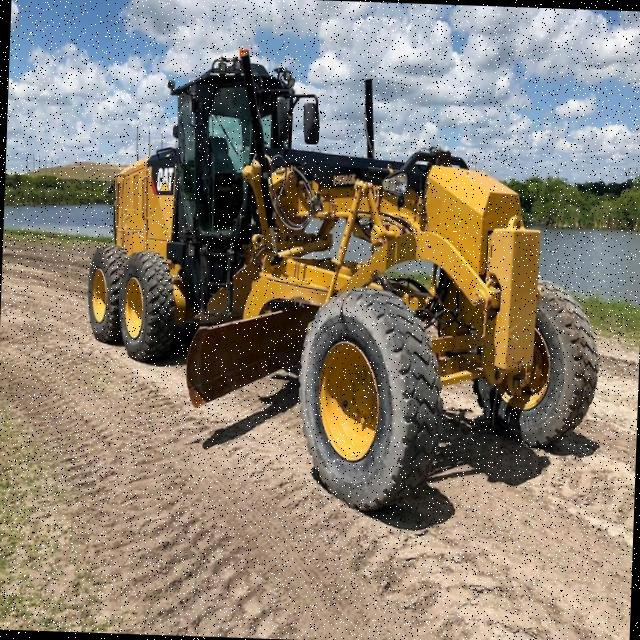Grader: (64, 44, 606, 518)
